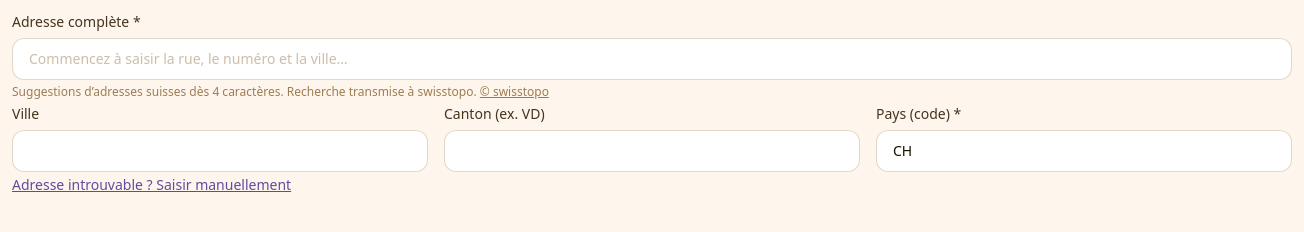
Test: permet la saisie manuelle sans carte ni coordonnées, même en panne
Type "Adresse introuvable" into the dropdown at (652,59), box [12,38,1292,80]
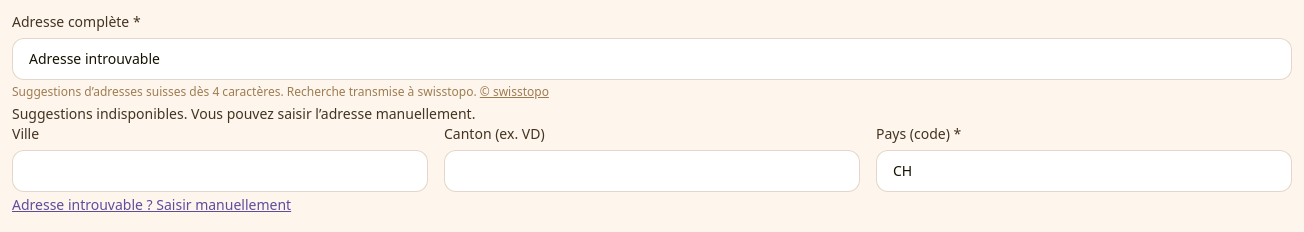
Expected: the message reads "Suggestions indisponibles. Vous pouvez saisir l’adresse manuellement.", [12,104,475,123]
Click the button "Adresse introuvable ? Saisir manuellement" at (152,205), box [12,195,291,215]
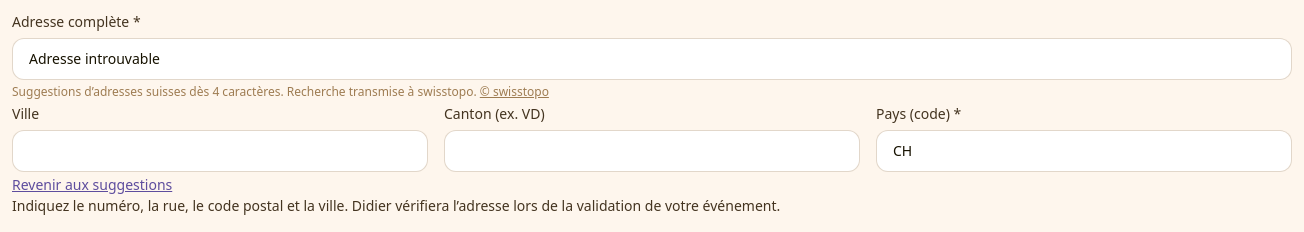
Expected: the text "Indiquez le numéro, la rue, le code postal et la ville. Didier vérifiera l’adresse lors de la validation de votre événem" is shown, [12,196,780,215]
